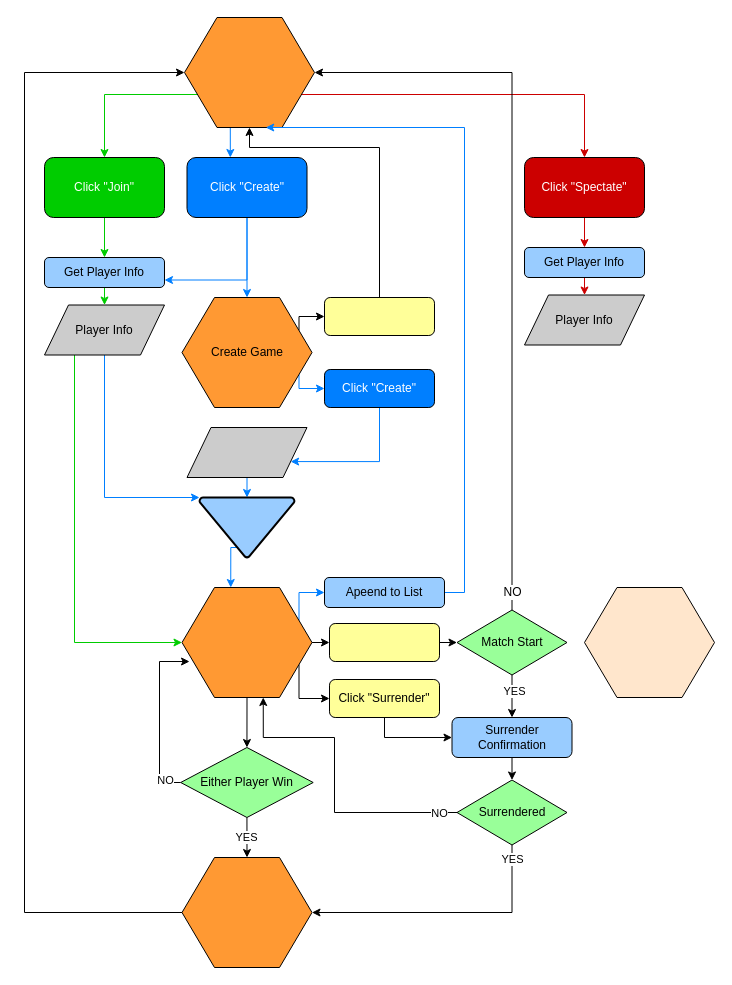
This 732x985 diagram has some shape labels left out. Here are the shapes that lost their labels. From the top down, the box of each, then its label:
(184, 16, 314, 128): HOME
(324, 296, 434, 336): Click "Cancel"
(186, 426, 307, 478): Game Settings
(198, 496, 295, 558): New Game
(181, 586, 312, 698): IN GAME
(328, 622, 440, 662): Click "Quit"
(584, 586, 714, 698): GAME
(181, 856, 312, 968): END GAME
